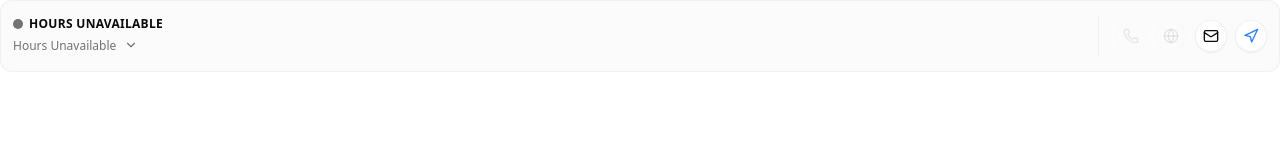
Test case: WineryInfoCard › renders safely without throwing TypeError when weekday_text has fewer than 7 entries on days other than Monday
# Toggle hours dropdown should safely show Monday without crashing
Click the button with test id "hours-toggle" at [131, 45], box [120, 34, 142, 56]
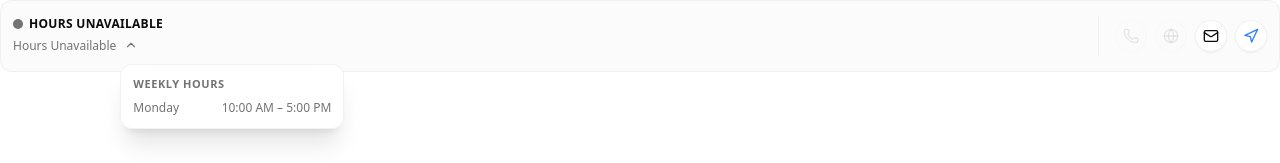
Expected: the text "Weekly Hours" is shown, [133, 76, 225, 91]
Expected: the text "Monday" is shown, [133, 100, 179, 116]
Expected: the text "10:00 AM – 5:00 PM" is shown, [222, 100, 331, 116]
